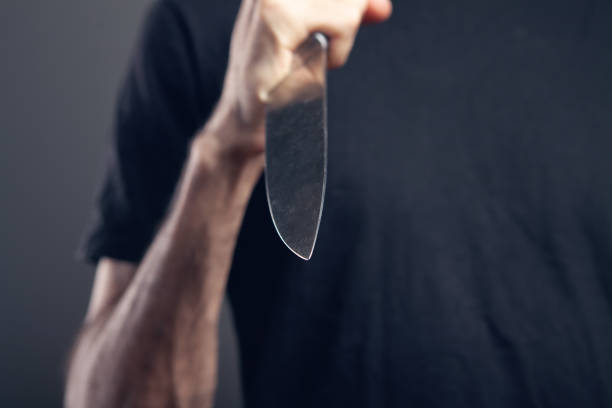knife: (261, 30, 331, 264)
